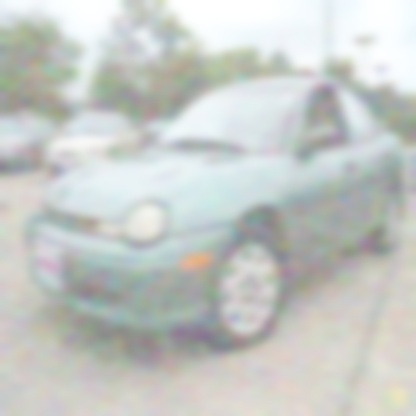Vehicle: (24, 75, 407, 349)
